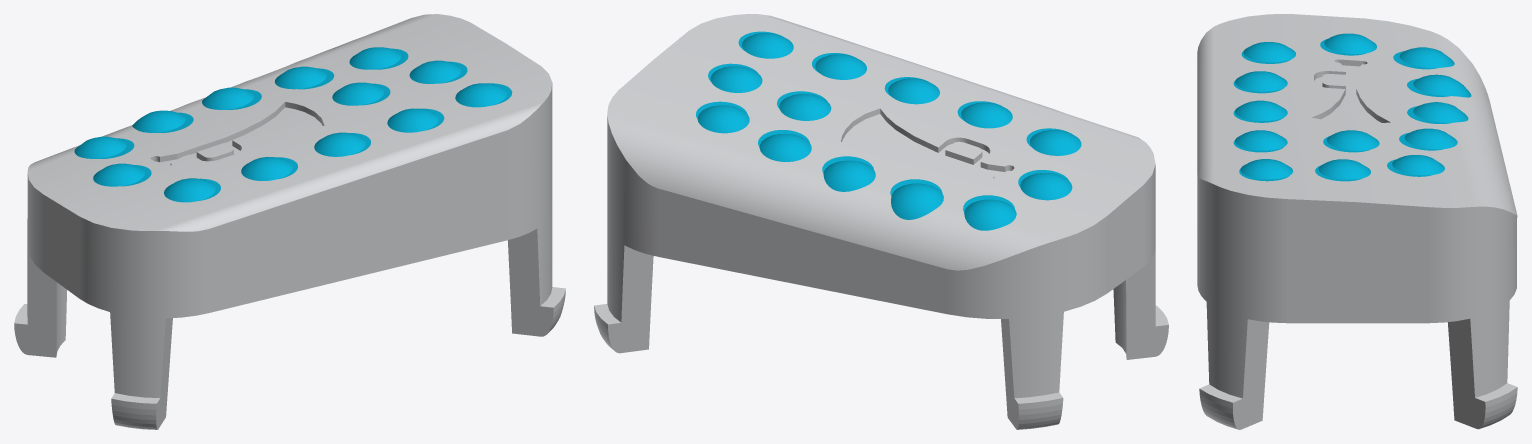
The picture shows the model from 3 angles, left to right: view 1: azimuth 30°, elevation 25°; view 2: azimuth 150°, elevation 25°; view 3: azimuth 270°, elevation 25°; orthographic projection.
Visible parts, largest first — view 1: =>[0:1:1:2], =>[0:1:1:12], =>[0:1:1:11], =>[0:1:1:8], =>[0:1:1:13], =>[0:1:1:9], =>[0:1:1:15], =>[0:1:1:14], =>[0:1:1:10], =>[0:1:1:16], =>[0:1:1:4], =>[0:1:1:6] (+2 smaller); view 2: =>[0:1:1:2], =>[0:1:1:6], =>[0:1:1:7], =>[0:1:1:5], =>[0:1:1:4], =>[0:1:1:16], =>[0:1:1:10], =>[0:1:1:14], =>[0:1:1:15], =>[0:1:1:8], =>[0:1:1:9], =>[0:1:1:13] (+2 smaller); view 3: =>[0:1:1:2], =>[0:1:1:6], =>[0:1:1:7], =>[0:1:1:5], =>[0:1:1:4], =>[0:1:1:16], =>[0:1:1:10], =>[0:1:1:14], =>[0:1:1:15], =>[0:1:1:11], =>[0:1:1:12], =>[0:1:1:9] (+2 smaller).
Part boxes in pixels (x1,y1,x2,y2): =>[0:1:1:2]: [14, 14, 565, 429]; =>[0:1:1:12]: [387, 108, 444, 132]; =>[0:1:1:11]: [314, 132, 370, 156]; =>[0:1:1:8]: [164, 178, 220, 202]; =>[0:1:1:13]: [455, 83, 512, 107]; =>[0:1:1:9]: [241, 157, 297, 180]; =>[0:1:1:15]: [409, 60, 467, 83]; =>[0:1:1:14]: [332, 82, 390, 105]; =>[0:1:1:10]: [93, 163, 151, 186]; =>[0:1:1:16]: [349, 47, 408, 69]; =>[0:1:1:4]: [275, 66, 334, 89]; =>[0:1:1:6]: [132, 110, 193, 132]; =>[0:1:1:2]: [594, 14, 1168, 429]; =>[0:1:1:6]: [890, 179, 943, 219]; =>[0:1:1:7]: [963, 195, 1016, 230]; =>[0:1:1:5]: [822, 156, 875, 191]; =>[0:1:1:4]: [758, 130, 811, 161]; =>[0:1:1:16]: [696, 101, 749, 133]; =>[0:1:1:10]: [1018, 170, 1072, 200]; =>[0:1:1:14]: [777, 91, 831, 120]; =>[0:1:1:15]: [708, 63, 762, 92]; =>[0:1:1:8]: [1026, 128, 1081, 155]; =>[0:1:1:9]: [957, 101, 1012, 128]; =>[0:1:1:13]: [738, 31, 793, 58]; =>[0:1:1:2]: [1197, 14, 1517, 429]; =>[0:1:1:6]: [1407, 74, 1471, 97]; =>[0:1:1:7]: [1393, 47, 1454, 69]; =>[0:1:1:5]: [1407, 102, 1468, 123]; =>[0:1:1:4]: [1399, 128, 1457, 150]; =>[0:1:1:16]: [1387, 155, 1444, 176]; =>[0:1:1:10]: [1320, 33, 1376, 55]; =>[0:1:1:14]: [1323, 130, 1379, 152]; =>[0:1:1:15]: [1315, 159, 1370, 181]; =>[0:1:1:11]: [1233, 100, 1287, 122]; =>[0:1:1:12]: [1233, 130, 1287, 152]; =>[0:1:1:9]: [1233, 71, 1287, 93].
Size of the model in its own units: 38.92 by 19.23 by 23.32.
